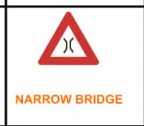Traffic signal: (37, 12, 101, 67)
